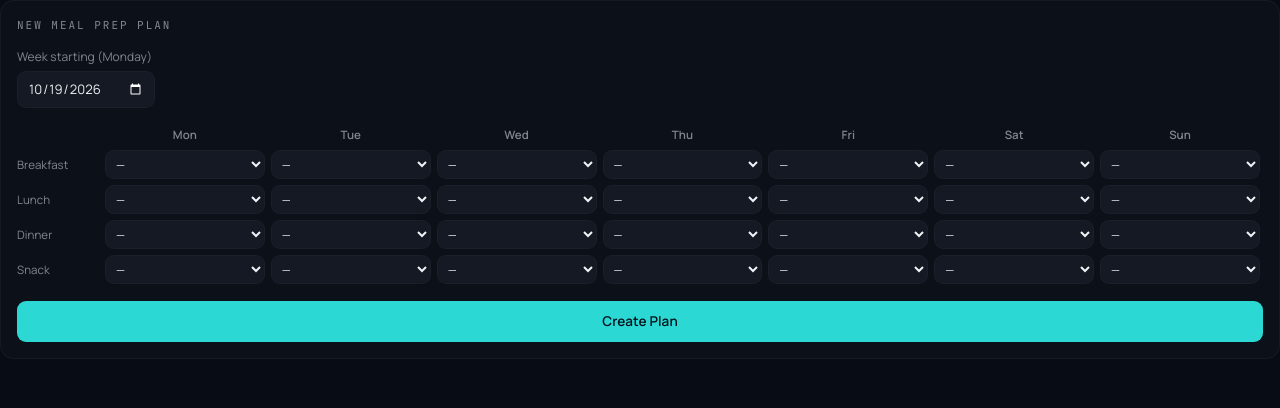
Test: MealPrepForm › shows error when no recipes are assigned
What coordinates should you click on to do the following:
click the button "Create Plan"
I would click on:
 (640, 321)
Its box is [17,301,1263,342].
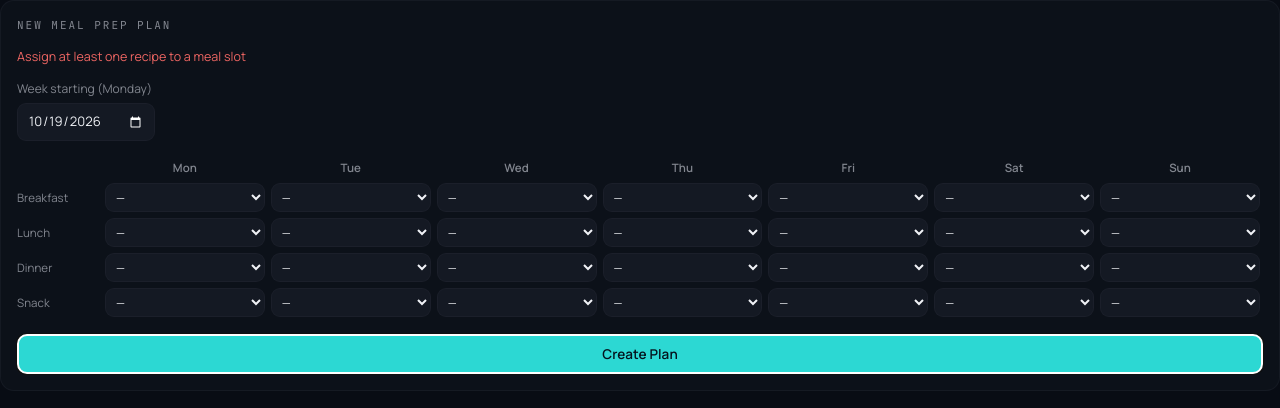
Expected: the text "Assign at least one recipe to a meal slot" is shown, [17,48,246,64]
